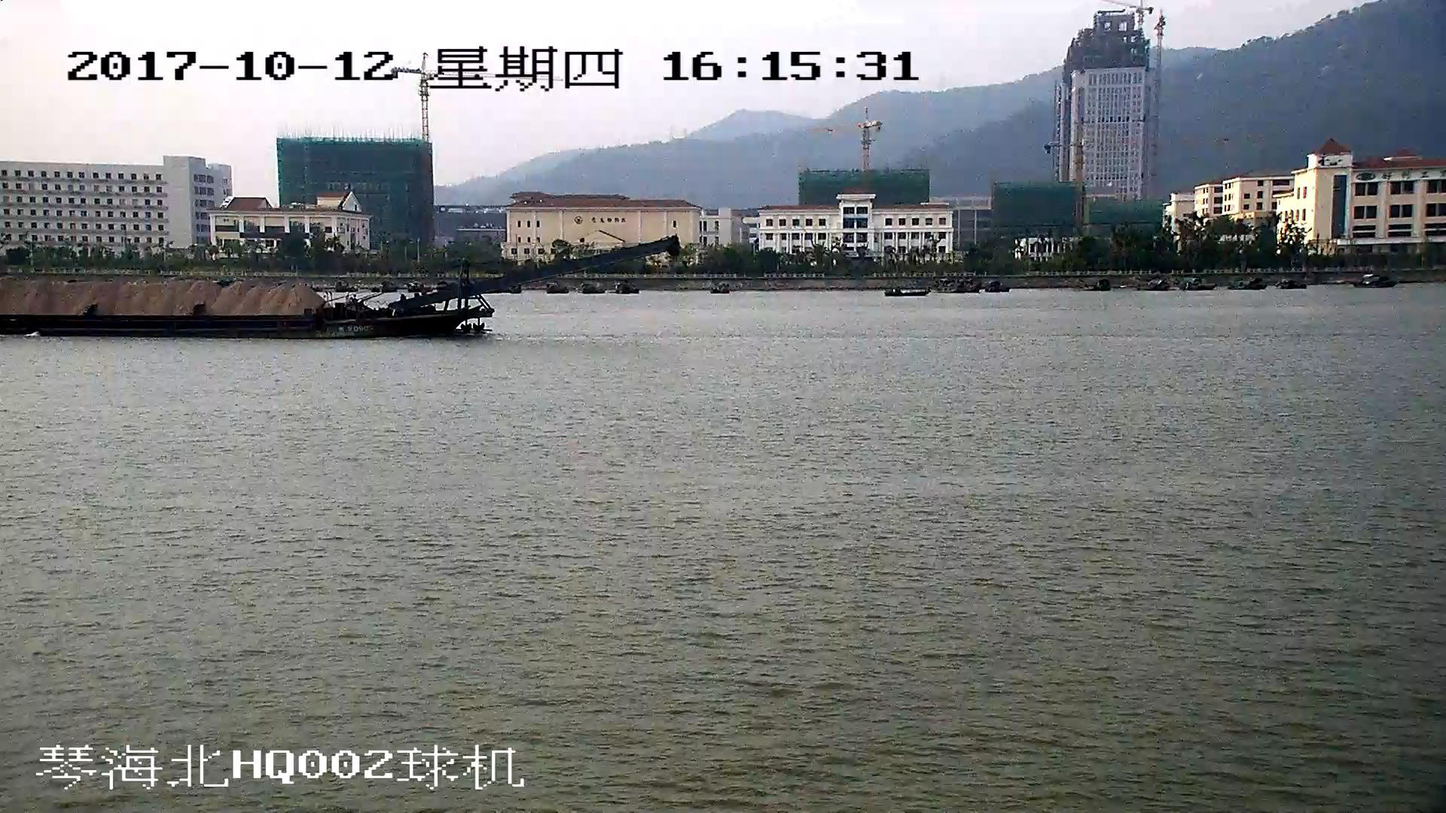ore carrier: (0, 238, 674, 337)
